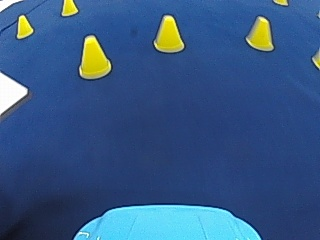cone: (77, 33, 111, 79), (152, 13, 184, 52), (245, 15, 274, 50), (15, 14, 33, 37), (60, 0, 77, 16)
